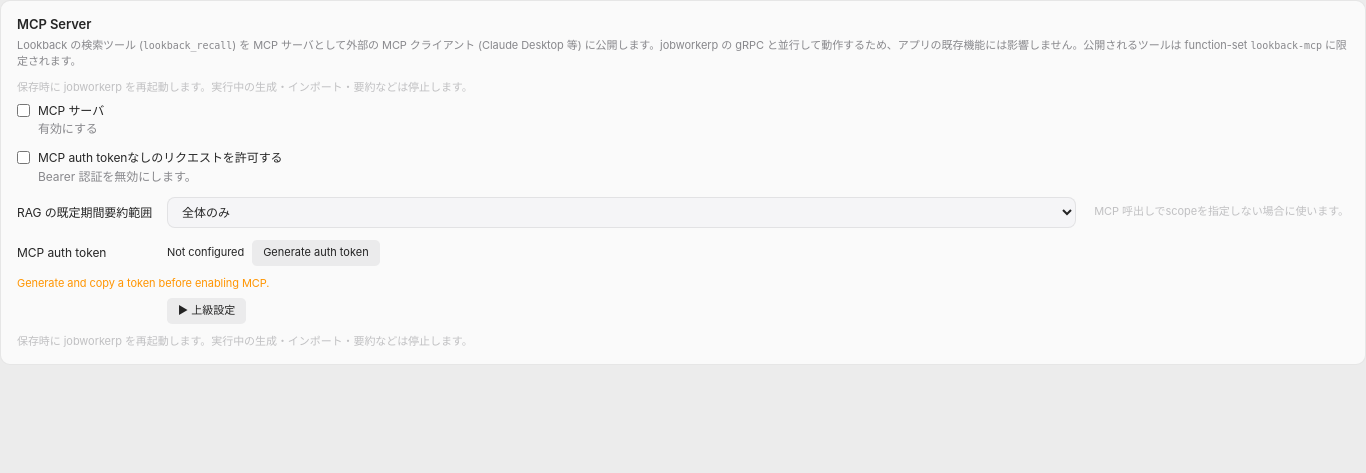
Scenario: McpServerCard › shows the unconfigured state and displays a generated token only until it is dismissed
expect the text "Not configured" is shown: met, box x1=167 y1=245 x2=244 y2=261
expect the text "Generate and copy a token before enabling MCP." is shown: met, box x1=17 y1=276 x2=270 y2=290
Click the button "Generate auth token".
click(316, 253)  # box x1=252 y1=240 x2=380 y2=266
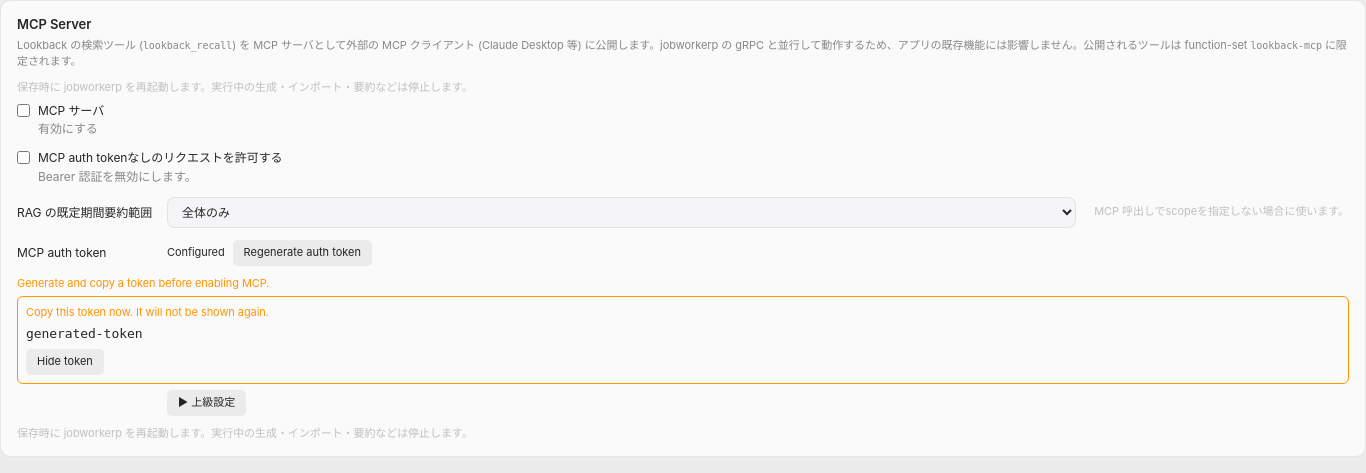
expect the text "generated-token" is shown: met, box x1=26 y1=326 x2=142 y2=341
expect the text "Copy this token now. It will not be shown again." is shown: met, box x1=26 y1=305 x2=269 y2=319
Click the button "Hide token".
click(65, 362)  # box x1=26 y1=350 x2=104 y2=375
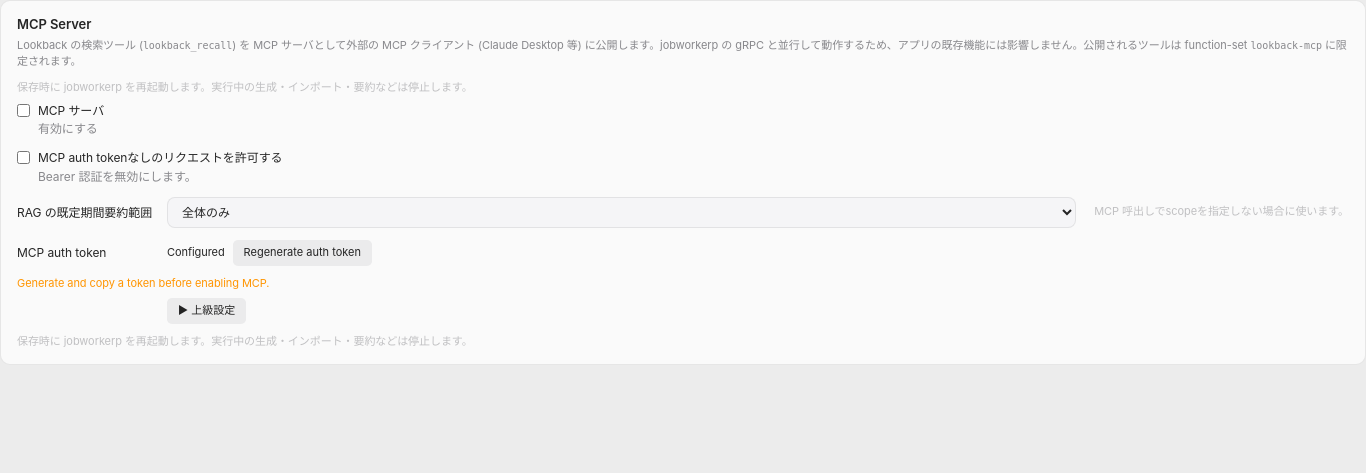
expect the text "generated-token" is gone: met
